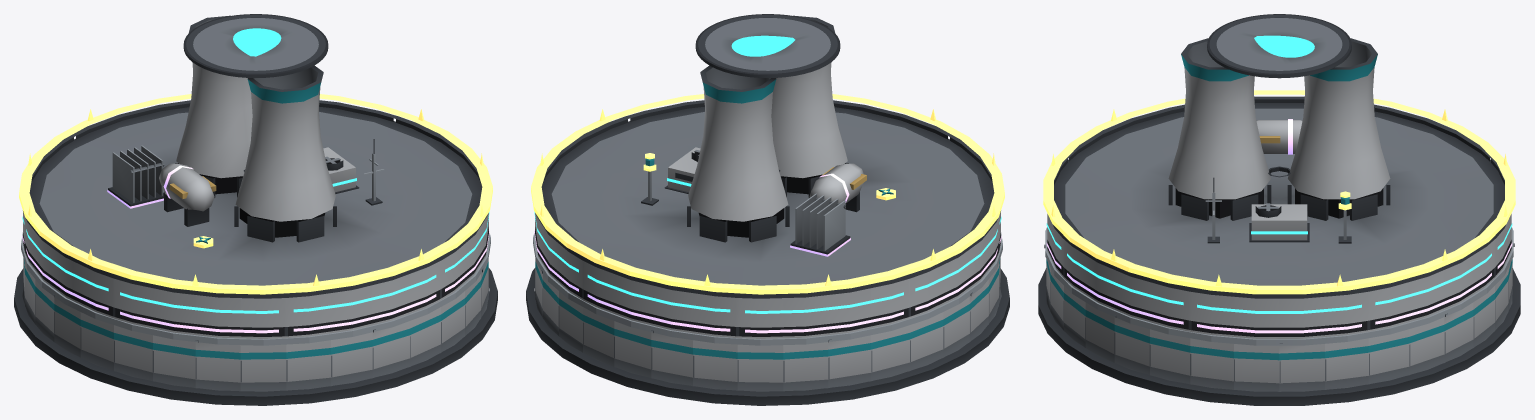
File: atmo_processor_s_far.glb
The picture shows the model from 3 angles, left to right: view 1: azimuth 30°, elevation 25°; view 2: azimuth 150°, elevation 25°; view 3: azimuth 270°, elevation 25°; orthographic projection.
Parts seen in each view (by area): view 1: Roof, Base, L5, L4, L2, L3; view 2: Roof, Base, L5, L4, L2, L3; view 3: Roof, Base, L5, L2, L3, L4.
Part boxes in pixels (x1,y1,x2,y2): Roof: (23, 14, 488, 338); Base: (14, 258, 497, 405); L5: (19, 94, 492, 294); L4: (22, 145, 489, 333); L2: (21, 139, 490, 345); L3: (22, 147, 489, 313); Roof: (535, 14, 1000, 338); Base: (526, 258, 1009, 405); L5: (531, 94, 1004, 294); L4: (534, 163, 1001, 333); L2: (533, 232, 1002, 345); L3: (534, 147, 1001, 313); Roof: (1047, 14, 1511, 338); Base: (1038, 243, 1520, 405); L5: (1043, 90, 1515, 294); L2: (1045, 177, 1513, 345); L3: (1046, 166, 1512, 313); L4: (1046, 119, 1512, 333).
Bounding box in the file's own units: 11.74 × 6.98 × 11.74.
